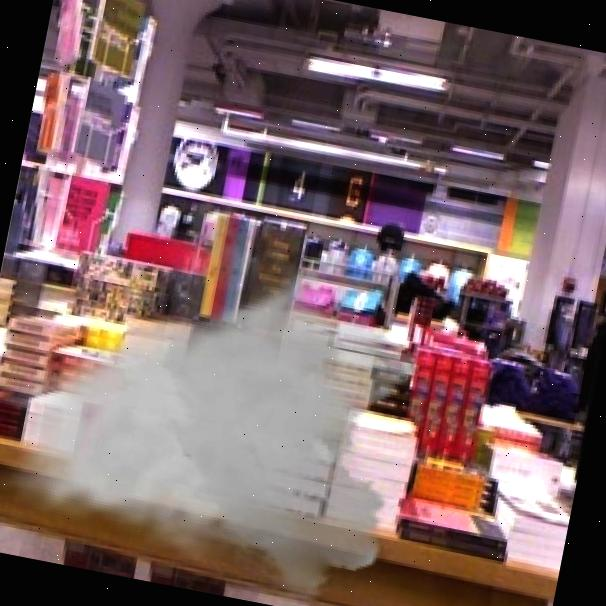smoke: (0, 157, 454, 606)
